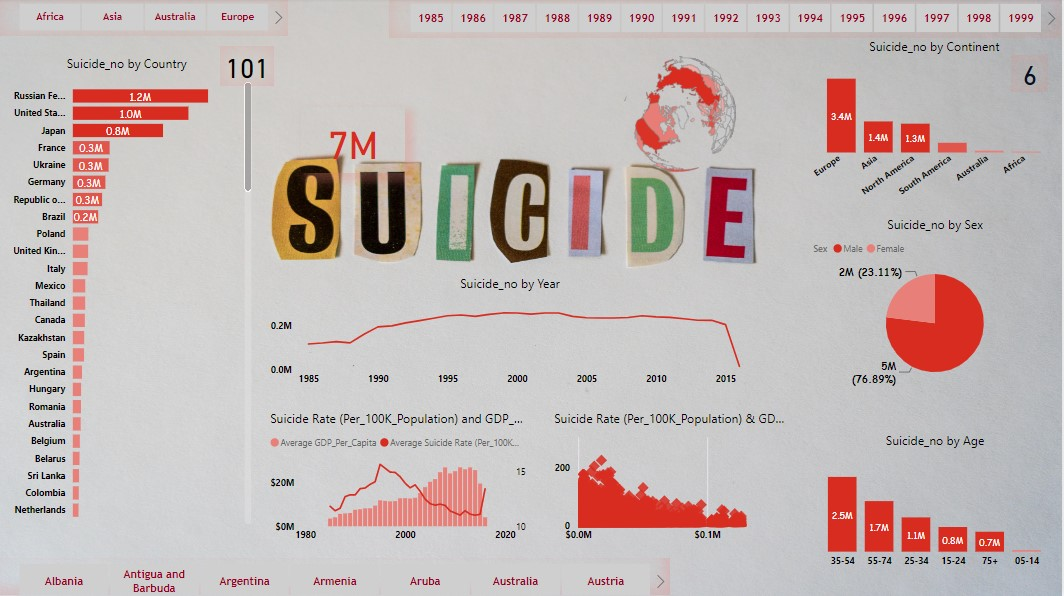

The page's visual inventory and layout, read from the dashboard file:
{"tool":"powerbi","page":{"name":"World Wide Suicide","canvas":[1280,720],"ordinal":0},"visuals":[{"type":"columnChart","fields":{"Category":["World Suicide.Continent"],"Y":["Sum(World Suicide.Suicides_No)"]},"box":[975.8,48.2,304.2,199.6],"z":0},{"type":"image","box":[0,48.6,59.1,52.6],"z":0,"group":"g1"},{"type":"image","box":[0,48.6,49.9,52.6],"z":1000,"group":"g1"},{"type":"pieChart","fields":{"Category":["AnalysisDataTable.Sex"],"Y":["Sum(AnalysisDataTable.Suicides_No)"]},"box":[976.5,262.5,303.4,210.7],"z":1000},{"type":"slicer","fields":{"Values":["AnalysisDataTable.Year.Variation.Date Hierarchy.Year"]},"box":[470.8,0,809.1,48.2],"z":2000},{"type":"barChart","fields":{"Category":["AnalysisDataTable.Country"],"Y":["Sum(AnalysisDataTable.Suicides_No)"]},"box":[0,68.8,309.7,569.8],"z":3000},{"type":"card","fields":{"Values":["Sum(AnalysisDataTable.Suicides_No)"]},"box":[364.7,130.8,125.2,79.8],"z":4000},{"type":"shapeMap","fields":{"Value":["Sum(AnalysisDataTable.Suicides_No)"],"Category":["World Suicide.Alpha-2 code"]},"box":[726,57.8,184.2,163.7],"z":5000},{"type":"columnChart","fields":{"Category":["World Suicide.Age"],"Y":["Sum(World Suicide.Suicides_No)"]},"box":[976.5,522.5,303.4,173.4],"z":6000},{"type":"card","fields":{"Values":["Count(World Suicide.Country)"]},"box":[267.3,57.8,65,48.2],"z":7000},{"type":"card","fields":{"Values":["Count(World Suicide.Continent)"]},"box":[1219.4,68.8,45.4,45.4],"z":8000},{"type":"lineChart","title":"Suicide_no by Year","fields":{"Category":["World Suicide.Year.Variation.Date Hierarchy.Year"],"Y":["Sum(World Suicide.Suicide_no)"]},"box":[322.7,333.5,587.6,143.3],"z":9000},{"type":"slicer","fields":{"Values":["World Suicide.Country"]},"box":[0,674.4,809.3,45.4],"z":10000},{"type":"scatterChart","title":"Suicide Rate (Per_100K_Population) & GDP_Per_Capita","fields":{"X":["World Suicide.GDP_Per_Capita"],"Y":["World Suicide.Suicide Rate (Per_100K_Population)"]},"box":[664.6,496.1,287.8,168.6],"z":11000},{"type":"slicer","fields":{"Values":["World Suicide.Continent"]},"box":[0,0,349.2,45.8],"z":12000},{"type":"lineStackedColumnComboChart","title":"Suicide Rate (Per_100K_Population) and GDP_Per_Capita by Year","fields":{"Category":["World Suicide.Year.Variation.Date Hierarchy.Year","World Suicide.Year.Variation.Date Hierarchy.Month"],"Y2":["Avg(World Suicide.Suicide Rate (Per_100K_Population))"],"Y":["Sum(World Suicide.GDP_Per_Capita)"]},"box":[322.7,496.1,317.9,168.6],"z":13000},{"type":"image","box":[557.1,170.8,59.1,52.6],"z":14000},{"type":"image","box":[557.1,281.2,59.1,52.6],"z":15000},{"type":"group","id":"g1","title":"Group 1","box":[0,48.6,59.1,52.6],"z":16000}]}

Visuals, with their boxes in screenshot pixels (x1, y1, x2, y2), scaled from the page's 1280x720 canvas onto the 1064x596 screenshot:
columnChart - World Suicide.Continent x Sum(World Suicide.Suicides_No): box(811, 40, 1063, 205)
image: box(0, 40, 49, 84)
image: box(0, 40, 41, 84)
pieChart - AnalysisDataTable.Sex x Sum(AnalysisDataTable.Suicides_No): box(812, 217, 1063, 392)
slicer - AnalysisDataTable.Year.Variation.Date Hierarchy.Year: box(391, 0, 1063, 40)
barChart - AnalysisDataTable.Country x Sum(AnalysisDataTable.Suicides_No): box(0, 57, 257, 529)
card - Sum(AnalysisDataTable.Suicides_No): box(303, 108, 407, 174)
shapeMap - Sum(AnalysisDataTable.Suicides_No) x World Suicide.Alpha-2 code: box(603, 48, 757, 183)
columnChart - World Suicide.Age x Sum(World Suicide.Suicides_No): box(812, 433, 1063, 576)
card - Count(World Suicide.Country): box(222, 48, 276, 88)
card - Count(World Suicide.Continent): box(1014, 57, 1051, 95)
"Suicide_no by Year" lineChart: box(268, 276, 757, 395)
slicer - World Suicide.Country: box(0, 558, 673, 595)
"Suicide Rate (Per_100K_Population) & GDP_Per_Capita" scatterChart: box(552, 411, 792, 550)
slicer - World Suicide.Continent: box(0, 0, 290, 38)
"Suicide Rate (Per_100K_Population) and GDP_Per_Capita by Year" lineStackedColumnComboChart: box(268, 411, 532, 550)
image: box(463, 141, 512, 185)
image: box(463, 233, 512, 276)
"Group 1" group: box(0, 40, 49, 84)
